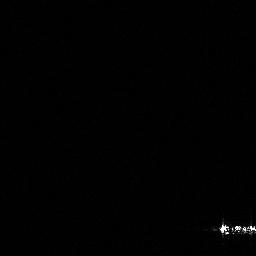ship: (215, 223, 256, 237)
